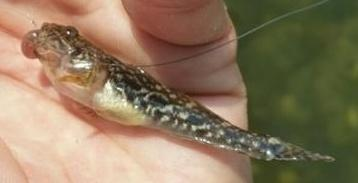Goby: (21, 18, 338, 165)
